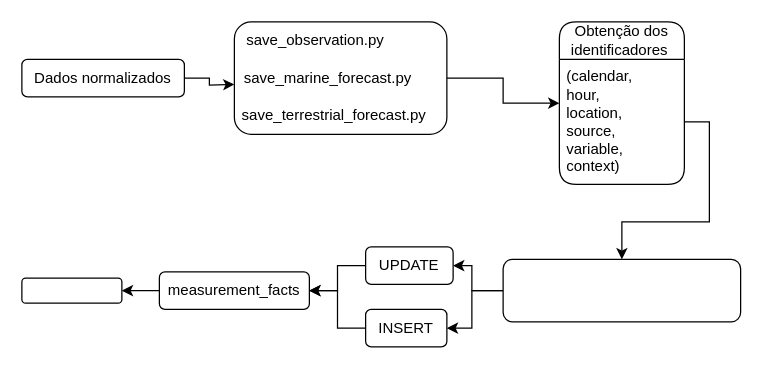
The diagram is 763 pixels wide and 369 high, and some of its shapes have lost their labels. Here are the shapes that lost their labels. From the top down, the centre of each, then its label:
At (71,290): "Commit".
At (621,290): "Verificação de registos existentes".
